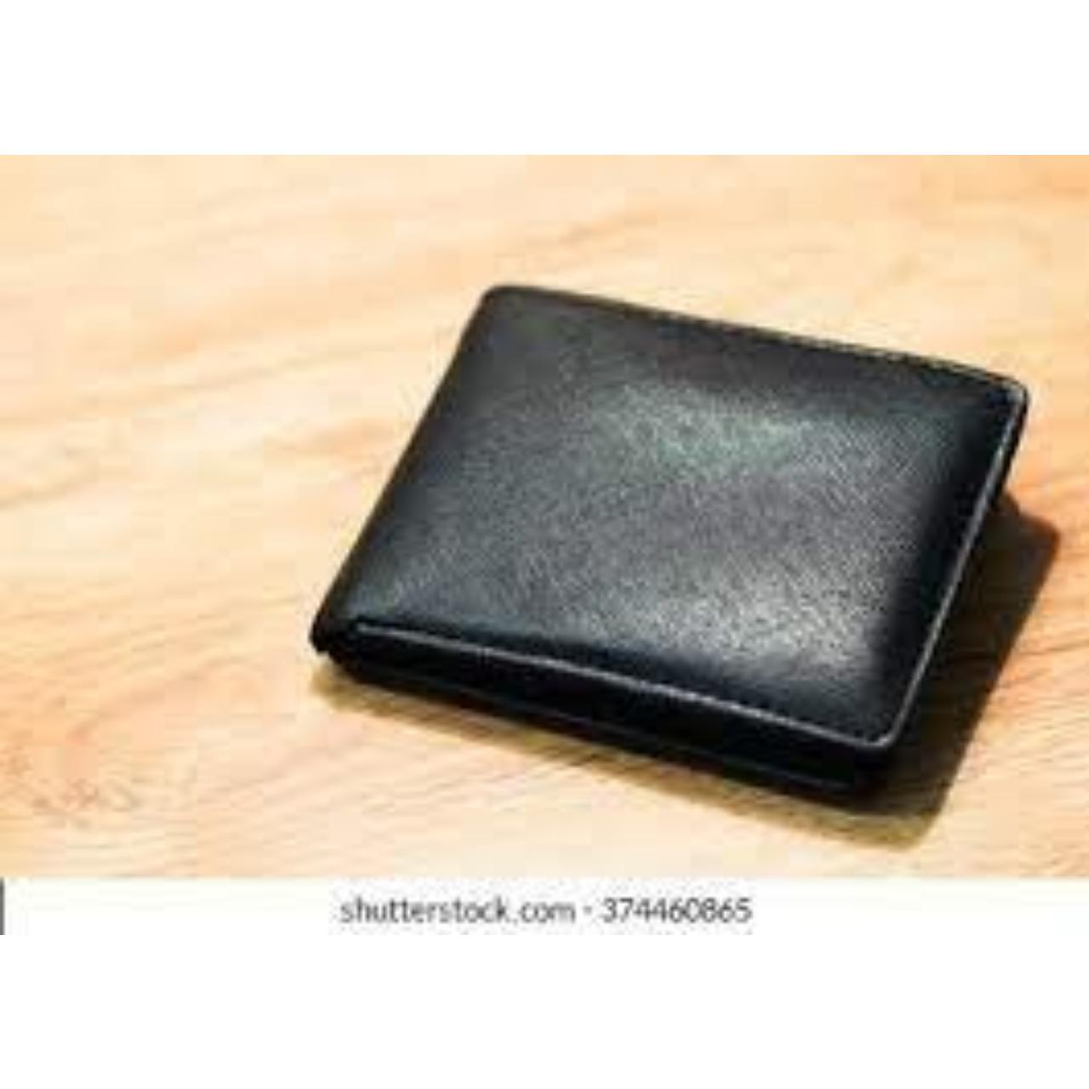wallet: (264, 249, 1089, 762)
